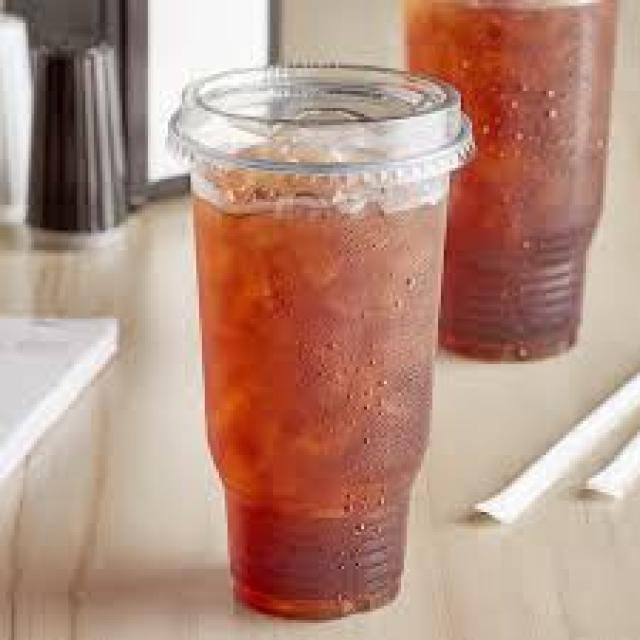cup: (139, 48, 484, 640)
